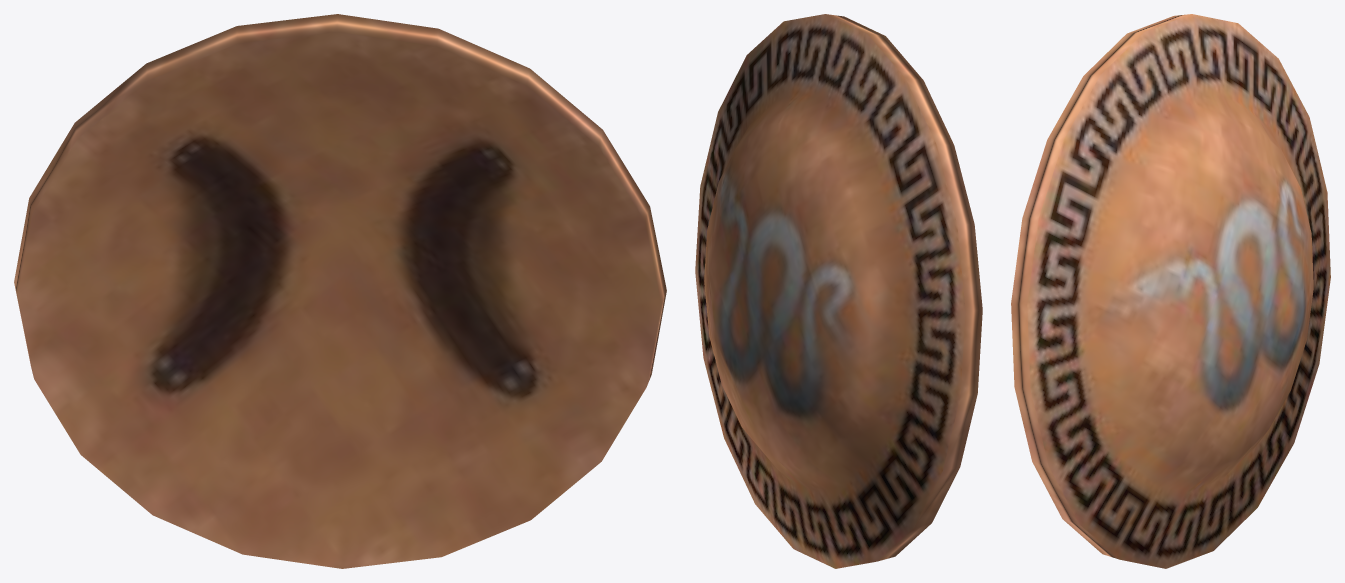
The model's file is shield-ironshields.glb.
The picture shows the model from 3 angles, left to right: view 1: azimuth 30°, elevation 25°; view 2: azimuth 150°, elevation 25°; view 3: azimuth 270°, elevation 25°; orthographic projection. The views are drawn at different scales.
Bounding box in the file's own units: 0.4811 × 0.5524 × 0.3203.
Materials: 1 (1 with a texture image).
